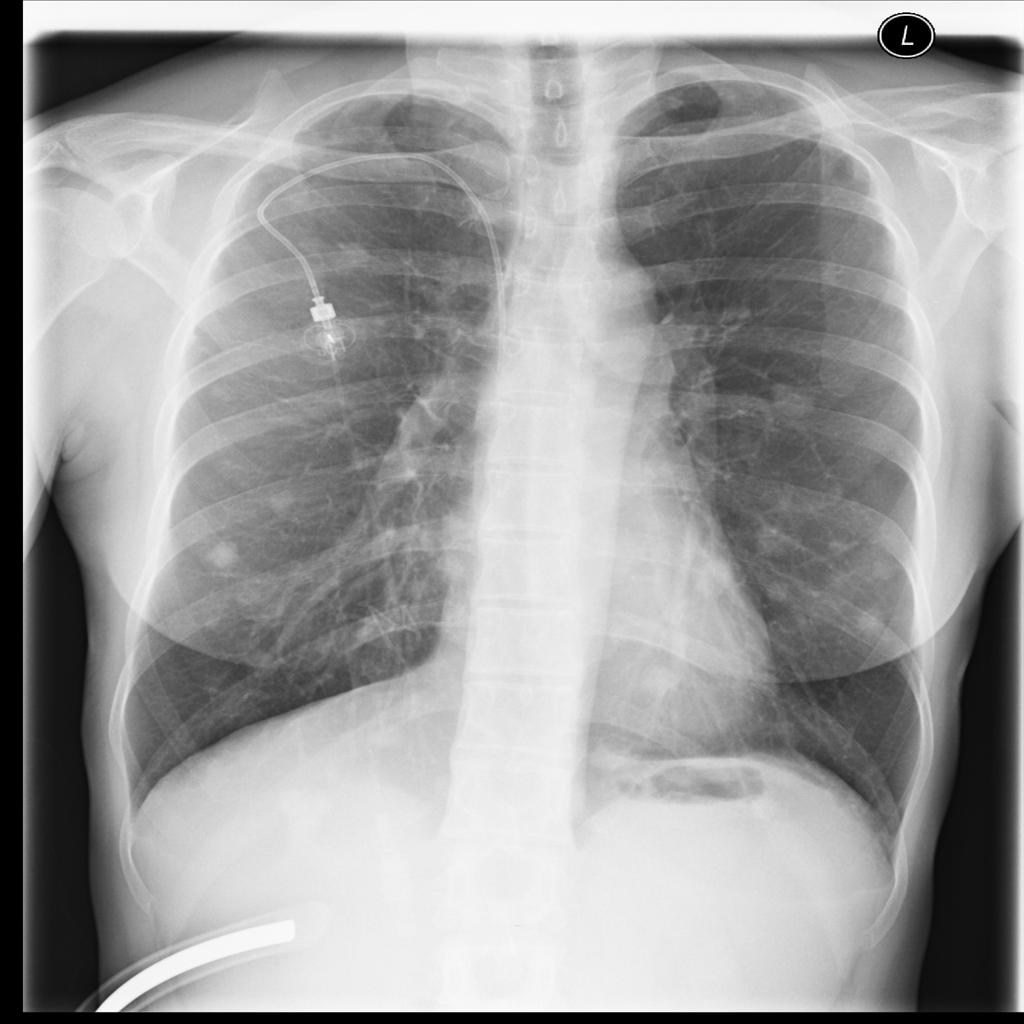nodule: (755, 365, 830, 430), (678, 542, 746, 612), (630, 656, 689, 701), (749, 518, 802, 567), (855, 546, 912, 590), (844, 596, 896, 644), (196, 531, 251, 575), (257, 477, 309, 522), (751, 570, 801, 616), (231, 573, 284, 616), (818, 526, 869, 568)
